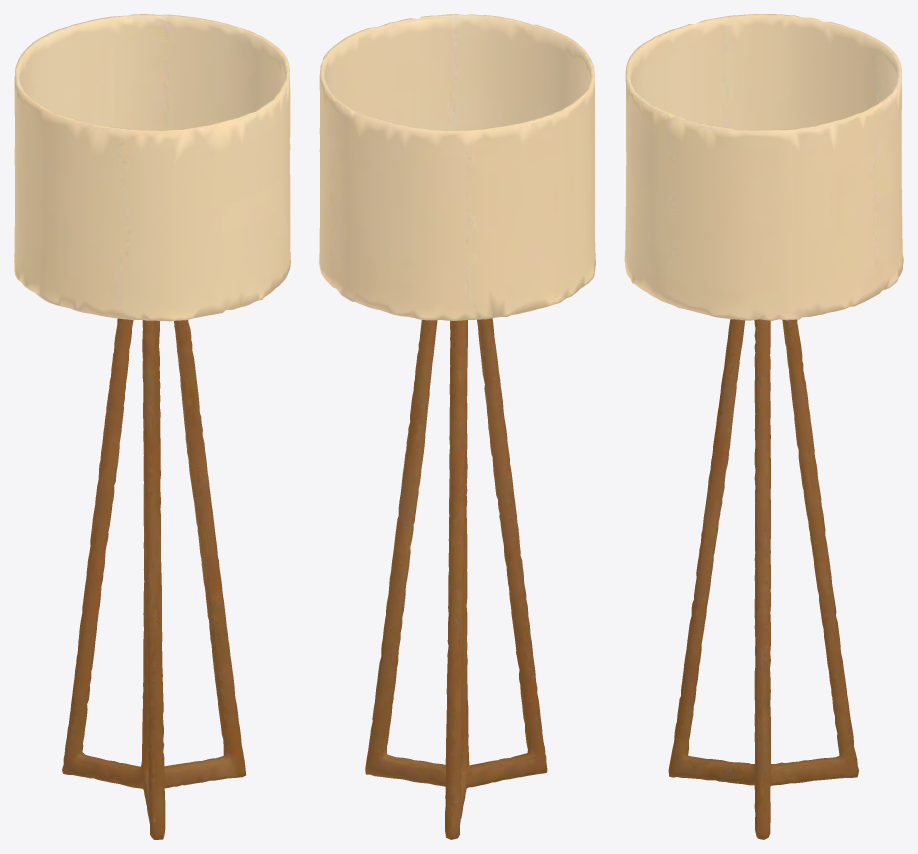
File: 15_floor_lamp.glb
3 renders of one model, left to right at view 1: azimuth 30°, elevation 25°; view 2: azimuth 150°, elevation 25°; view 3: azimuth 270°, elevation 25°, orthographic.
Parts seen in each view (by area): view 1: geometry_0; view 2: geometry_0; view 3: geometry_0.
Part boxes in pixels (<box>): geometry_0: <box>14,14,290,839</box>; geometry_0: <box>319,14,595,839</box>; geometry_0: <box>624,14,903,839</box>.
Size of the model in its own units: 0.6625 by 1.89 by 0.6633.
1 material, 1 textured.
